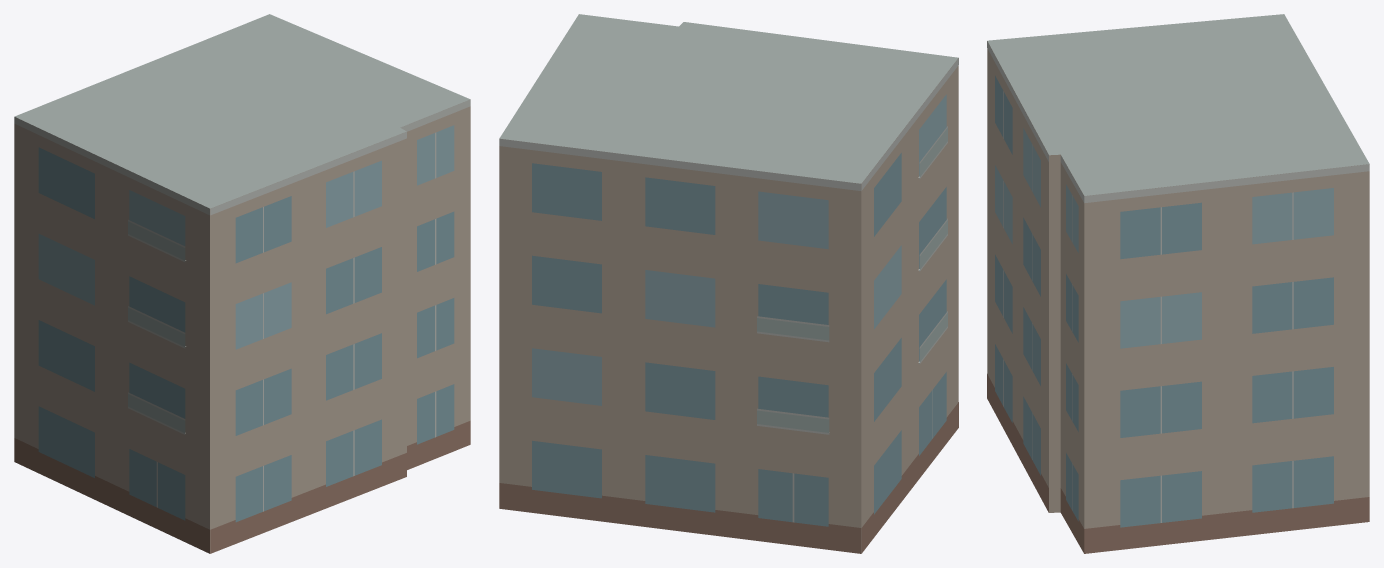
The model's file is survey-upis-32588979.glb.
3 renders of one model, left to right at view 1: azimuth 30°, elevation 25°; view 2: azimuth 150°, elevation 25°; view 3: azimuth 270°, elevation 25°, orthographic. The views are drawn at different scales.
Parts seen in each view (by area): view 1: survey-upis-32588979.tmp; view 2: survey-upis-32588979.tmp; view 3: survey-upis-32588979.tmp.
Part boxes in pixels (bbox=[...]): survey-upis-32588979.tmp: bbox=[14, 14, 470, 553]; survey-upis-32588979.tmp: bbox=[499, 14, 958, 553]; survey-upis-32588979.tmp: bbox=[987, 14, 1369, 553].
Bounding box in the file's own units: 13.32 × 12.2 × 11.83.
